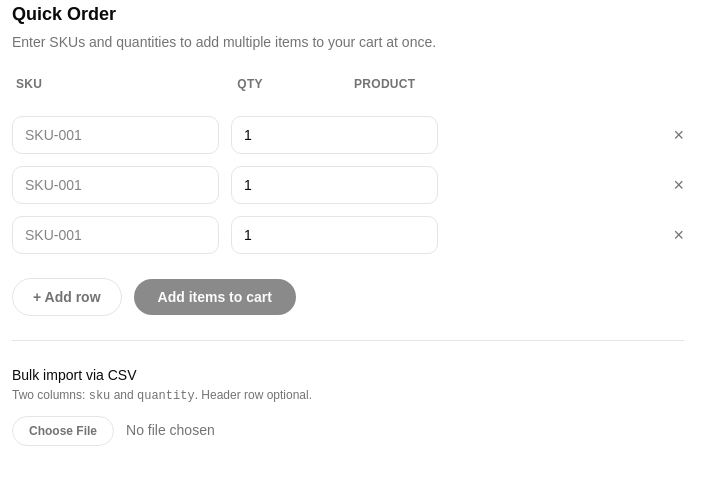
Test: QuickOrderPage › shows product info after successful SKU lookup
Step 1. Type "TSS-001" into the 1st field with placeholder "SKU-001" → [116, 135], box [12,116,219,154]
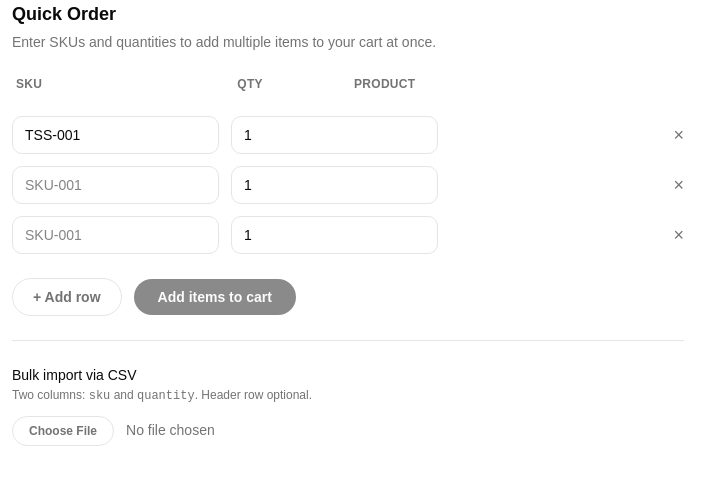
Step 2. Leave the field with placeholder "SKU-001", box [12,116,219,154]
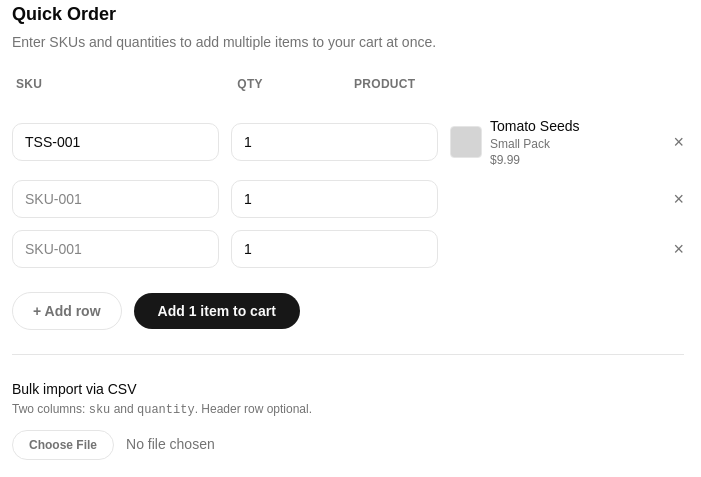
Now the text "Tomato Seeds" is shown, box [490,116,580,136]
Now the text "Small Pack" is shown, box [490,137,550,151]
Now the text "$9.99" is shown, box [490,153,520,167]
